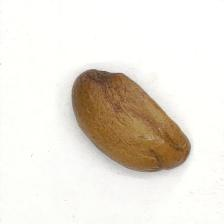NG: (76, 67, 127, 87)
